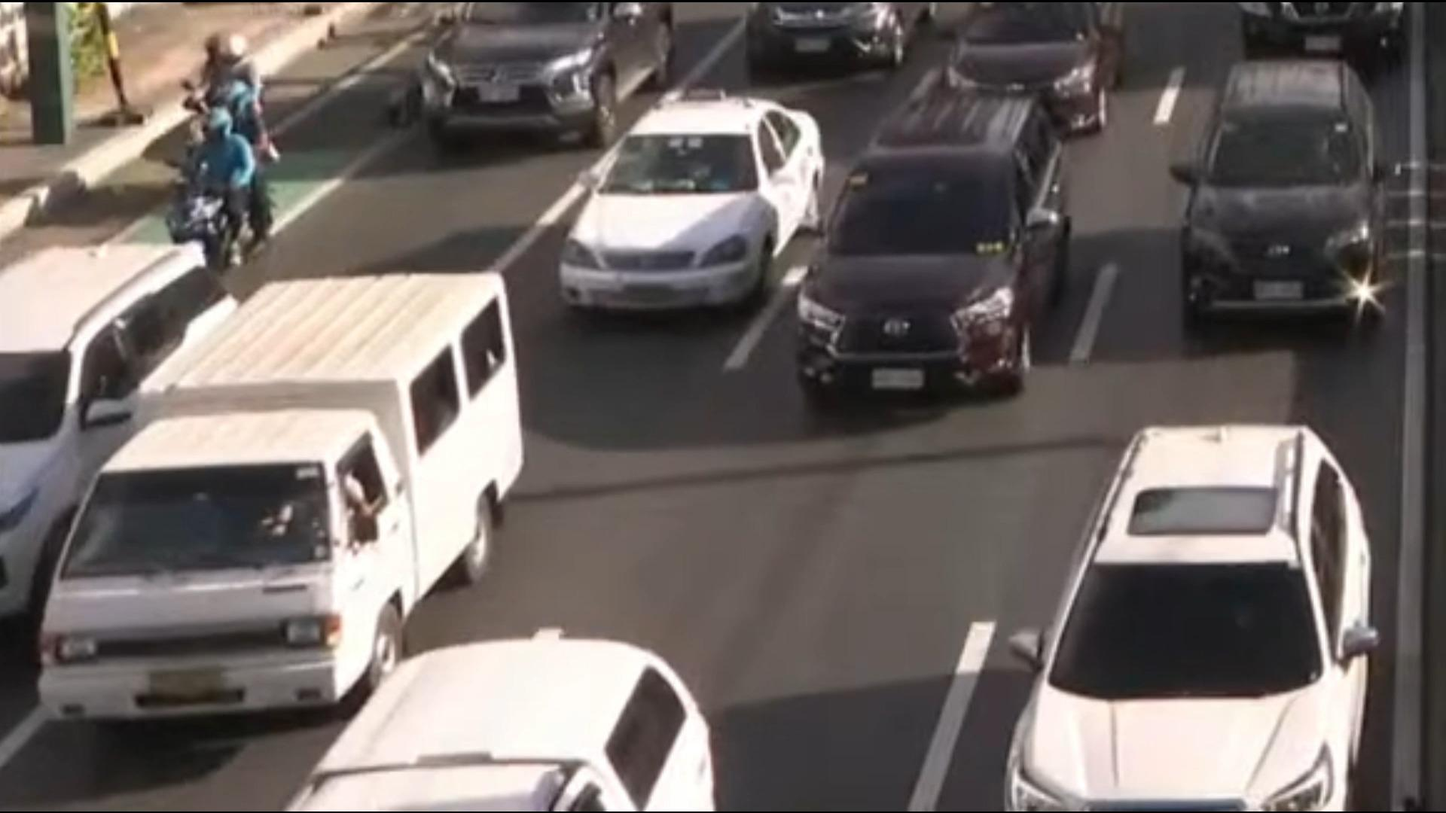Motorcycle: (138, 119, 305, 280), (170, 36, 304, 202)
Multicab: (18, 238, 569, 780)
SUV: (962, 411, 1390, 813), (772, 76, 1098, 474), (0, 217, 247, 637), (316, 608, 765, 813), (1149, 21, 1397, 365), (402, 0, 674, 173)
Sedan: (527, 89, 833, 343)
